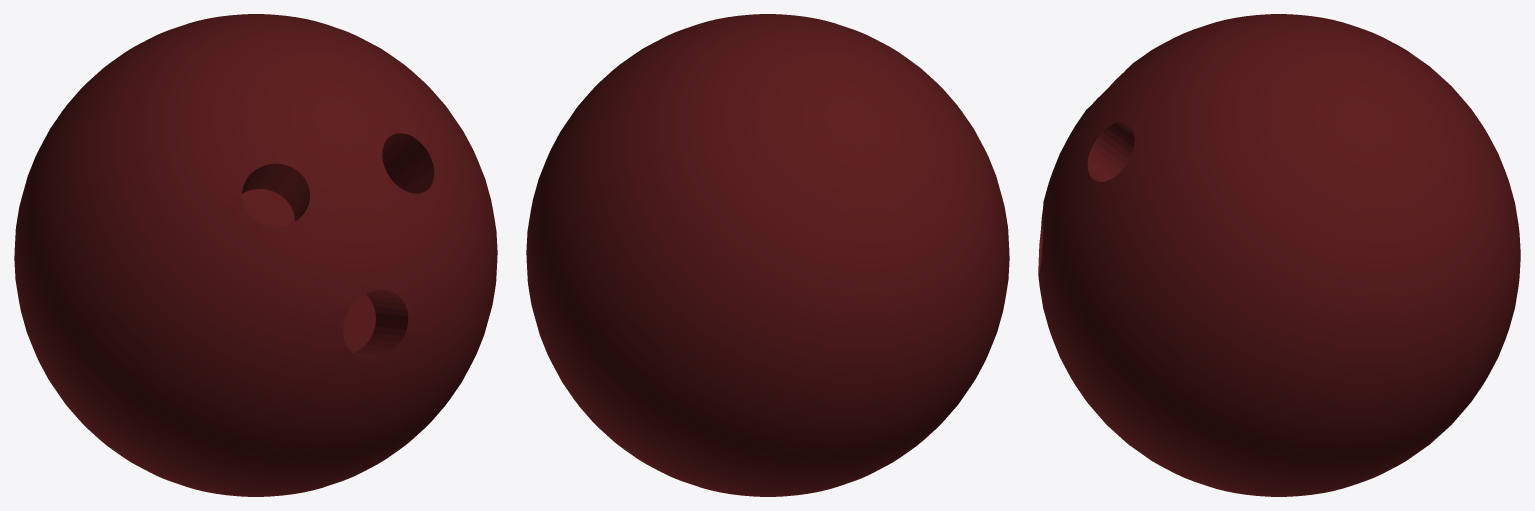
File: V_Alice03_BolaDeBoliche.fbx
3 renders of one model, left to right at view 1: azimuth 30°, elevation 25°; view 2: azimuth 150°, elevation 25°; view 3: azimuth 270°, elevation 25°, orthographic.
Visible parts, largest first — view 1: Sphere; view 2: Sphere; view 3: Sphere.
Boxes of the visible parts, bbox=[...] form: Sphere: bbox=[14, 14, 497, 496]; Sphere: bbox=[526, 14, 1009, 496]; Sphere: bbox=[1038, 14, 1520, 496].
Bounding box in the file's own units: 22.04 × 22.04 × 22.
